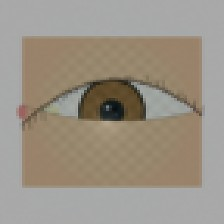pinguecula_lesion: (25, 93, 71, 130)
